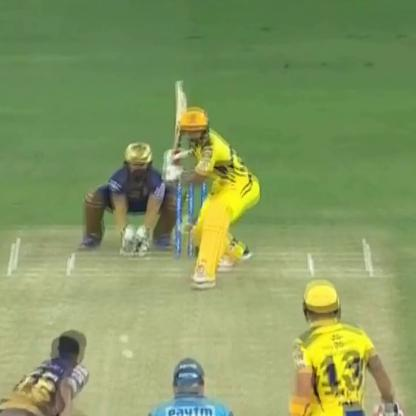ball: (115, 326, 133, 347), (119, 344, 136, 360)
bat: (166, 77, 192, 158)
pitch: (3, 232, 407, 415)
